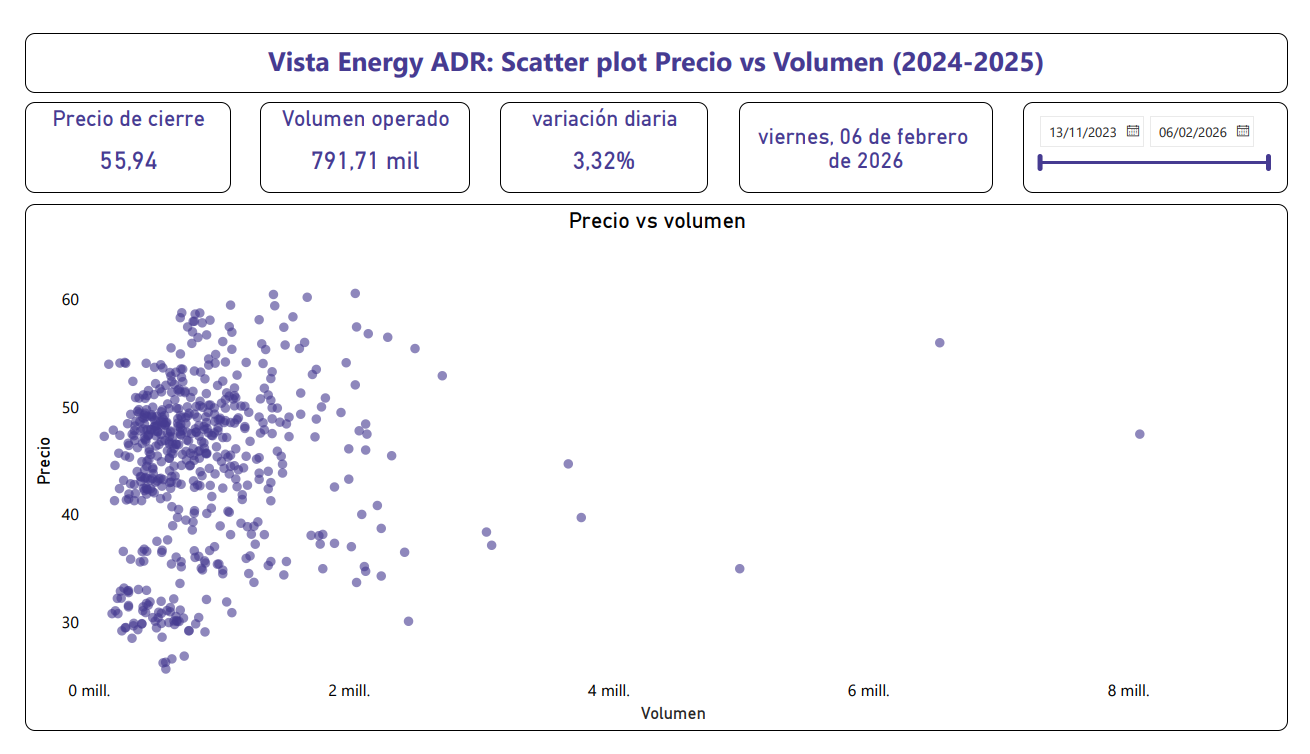

What the dashboard file says about the page in this screenshot:
{"tool":"powerbi","page":{"name":"Scatter plot","canvas":[1280,720],"ordinal":1},"visuals":[{"type":"scatterChart","title":" Precio vs volumen ","fields":{"Y":["df_cerrelacion_filtro_fecha.Precio"],"X":["df_cerrelacion_filtro_fecha.Vol."]},"box":[7,180,1263,527],"z":0},{"type":"textbox","box":[7,9,1263,60],"z":1000},{"type":"card","title":"Fecha","fields":{"Values":["df_cerrelacion_filtro_fecha.Fecha Seleccionada"]},"box":[721,78,254,91],"z":2000},{"type":"card","title":"Volumen operado","fields":{"Values":["df_cerrelacion_filtro_fecha.Ultimo Volumen"]},"box":[242,78,210,91],"z":3000},{"type":"card","title":"Precio de cierre","fields":{"Values":["df_cerrelacion_filtro_fecha.Ultimo Precio"]},"box":[7,78,206,91],"z":4000},{"type":"slicer","fields":{"Values":["df_cerrelacion_filtro_fecha.Fecha"]},"box":[1005,78,265,91],"z":5000},{"type":"card","title":"variación diaria ","fields":{"Values":["df_cerrelacion_filtro_fecha.Ultima VariacionF %"]},"box":[482,78,208,91],"z":6000}]}

Visuals, with their boxes in screenshot pixels (x1, y1, x2, y2), scaled from the page's 1280x720 canvas onto the 1310x754 screenshot:
" Precio vs volumen " scatterChart: locate(7, 188, 1300, 740)
textbox: locate(7, 9, 1300, 72)
"Fecha" card: locate(738, 82, 998, 177)
"Volumen operado" card: locate(248, 82, 463, 177)
"Precio de cierre" card: locate(7, 82, 218, 177)
slicer - df_cerrelacion_filtro_fecha.Fecha: locate(1029, 82, 1300, 177)
"variación diaria " card: locate(493, 82, 706, 177)
